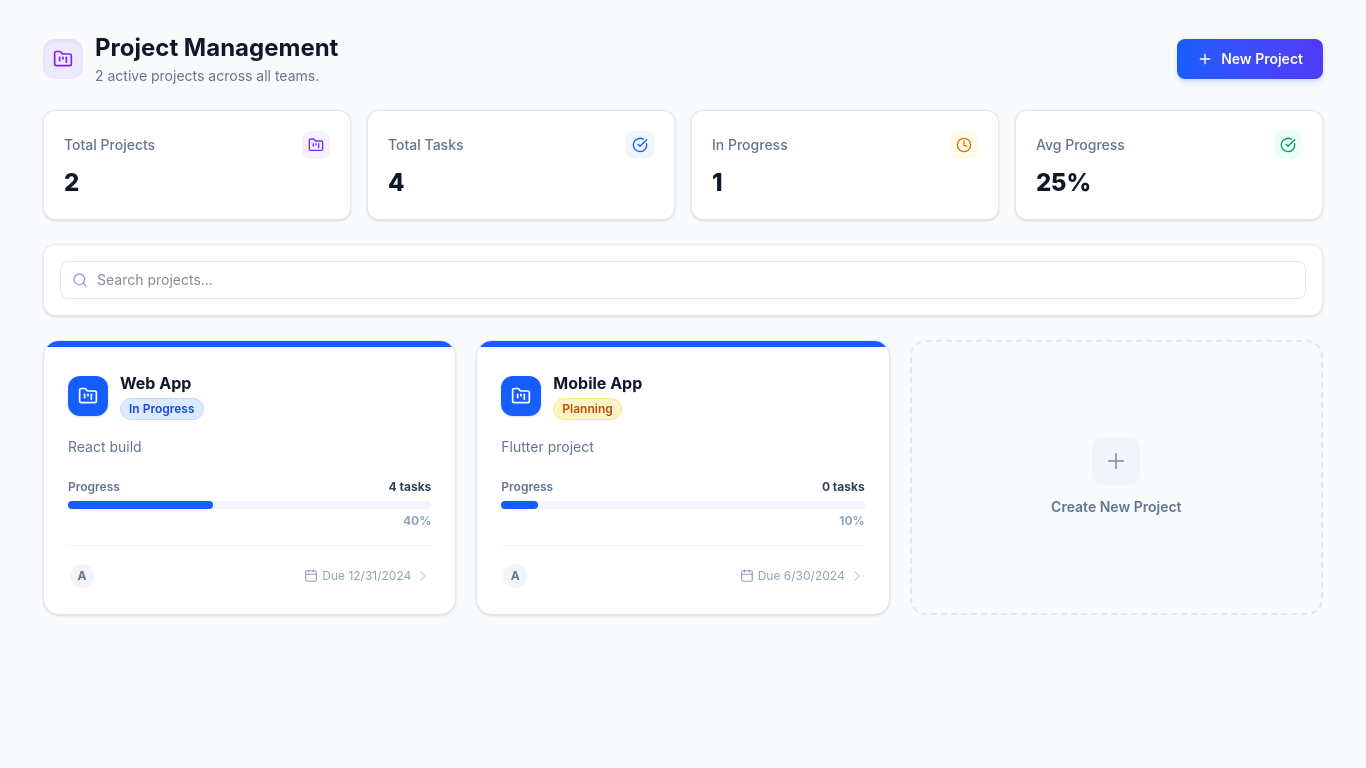
Test: Projects Component › filters projects by search term
Expected: the heading "Web App" is shown, [120,371,204,395]
Type "Mobile" into the field with placeholder "Search projects...".
click(683, 280); type("Mobile")  # box [60,261,1306,299]
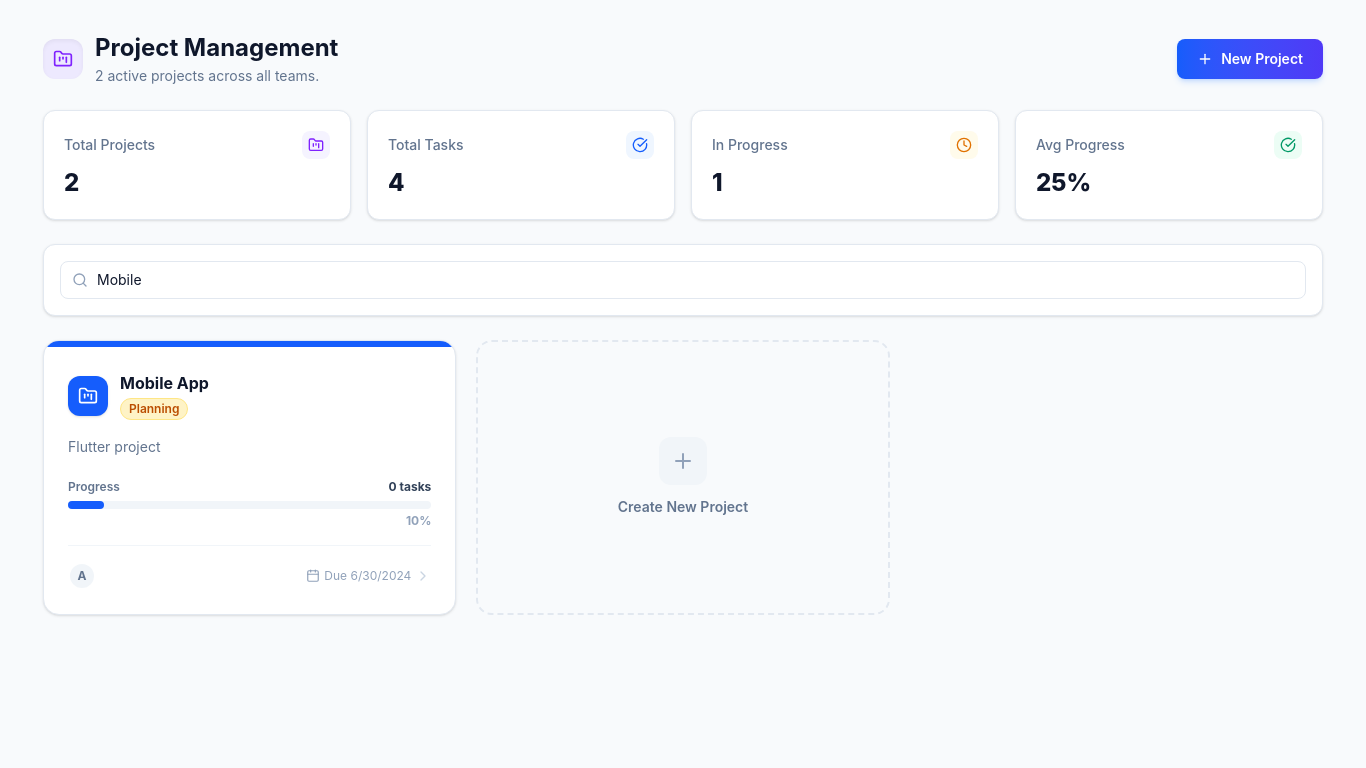
Expected: the heading "Mobile App" is shown, [120,371,209,395]
Expected: the button "Web App" is gone
